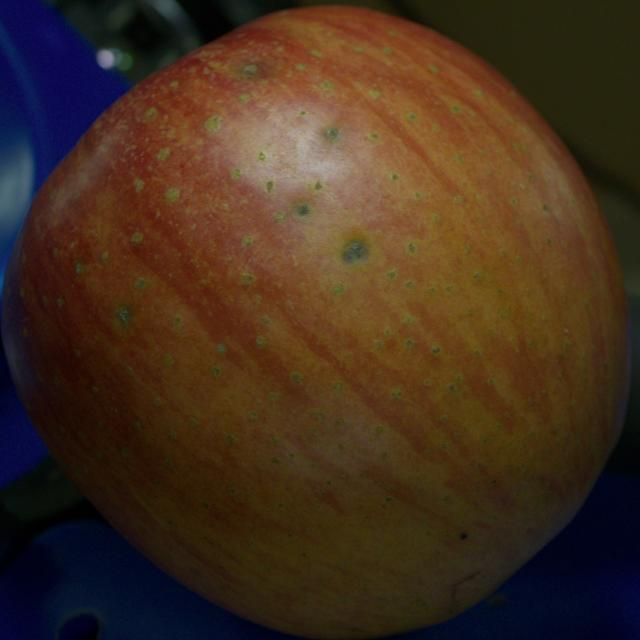apple: (2, 7, 631, 639)
pest: (342, 238, 368, 262), (116, 306, 131, 326), (241, 64, 259, 76), (296, 203, 310, 214), (326, 128, 338, 138), (461, 534, 467, 539)
